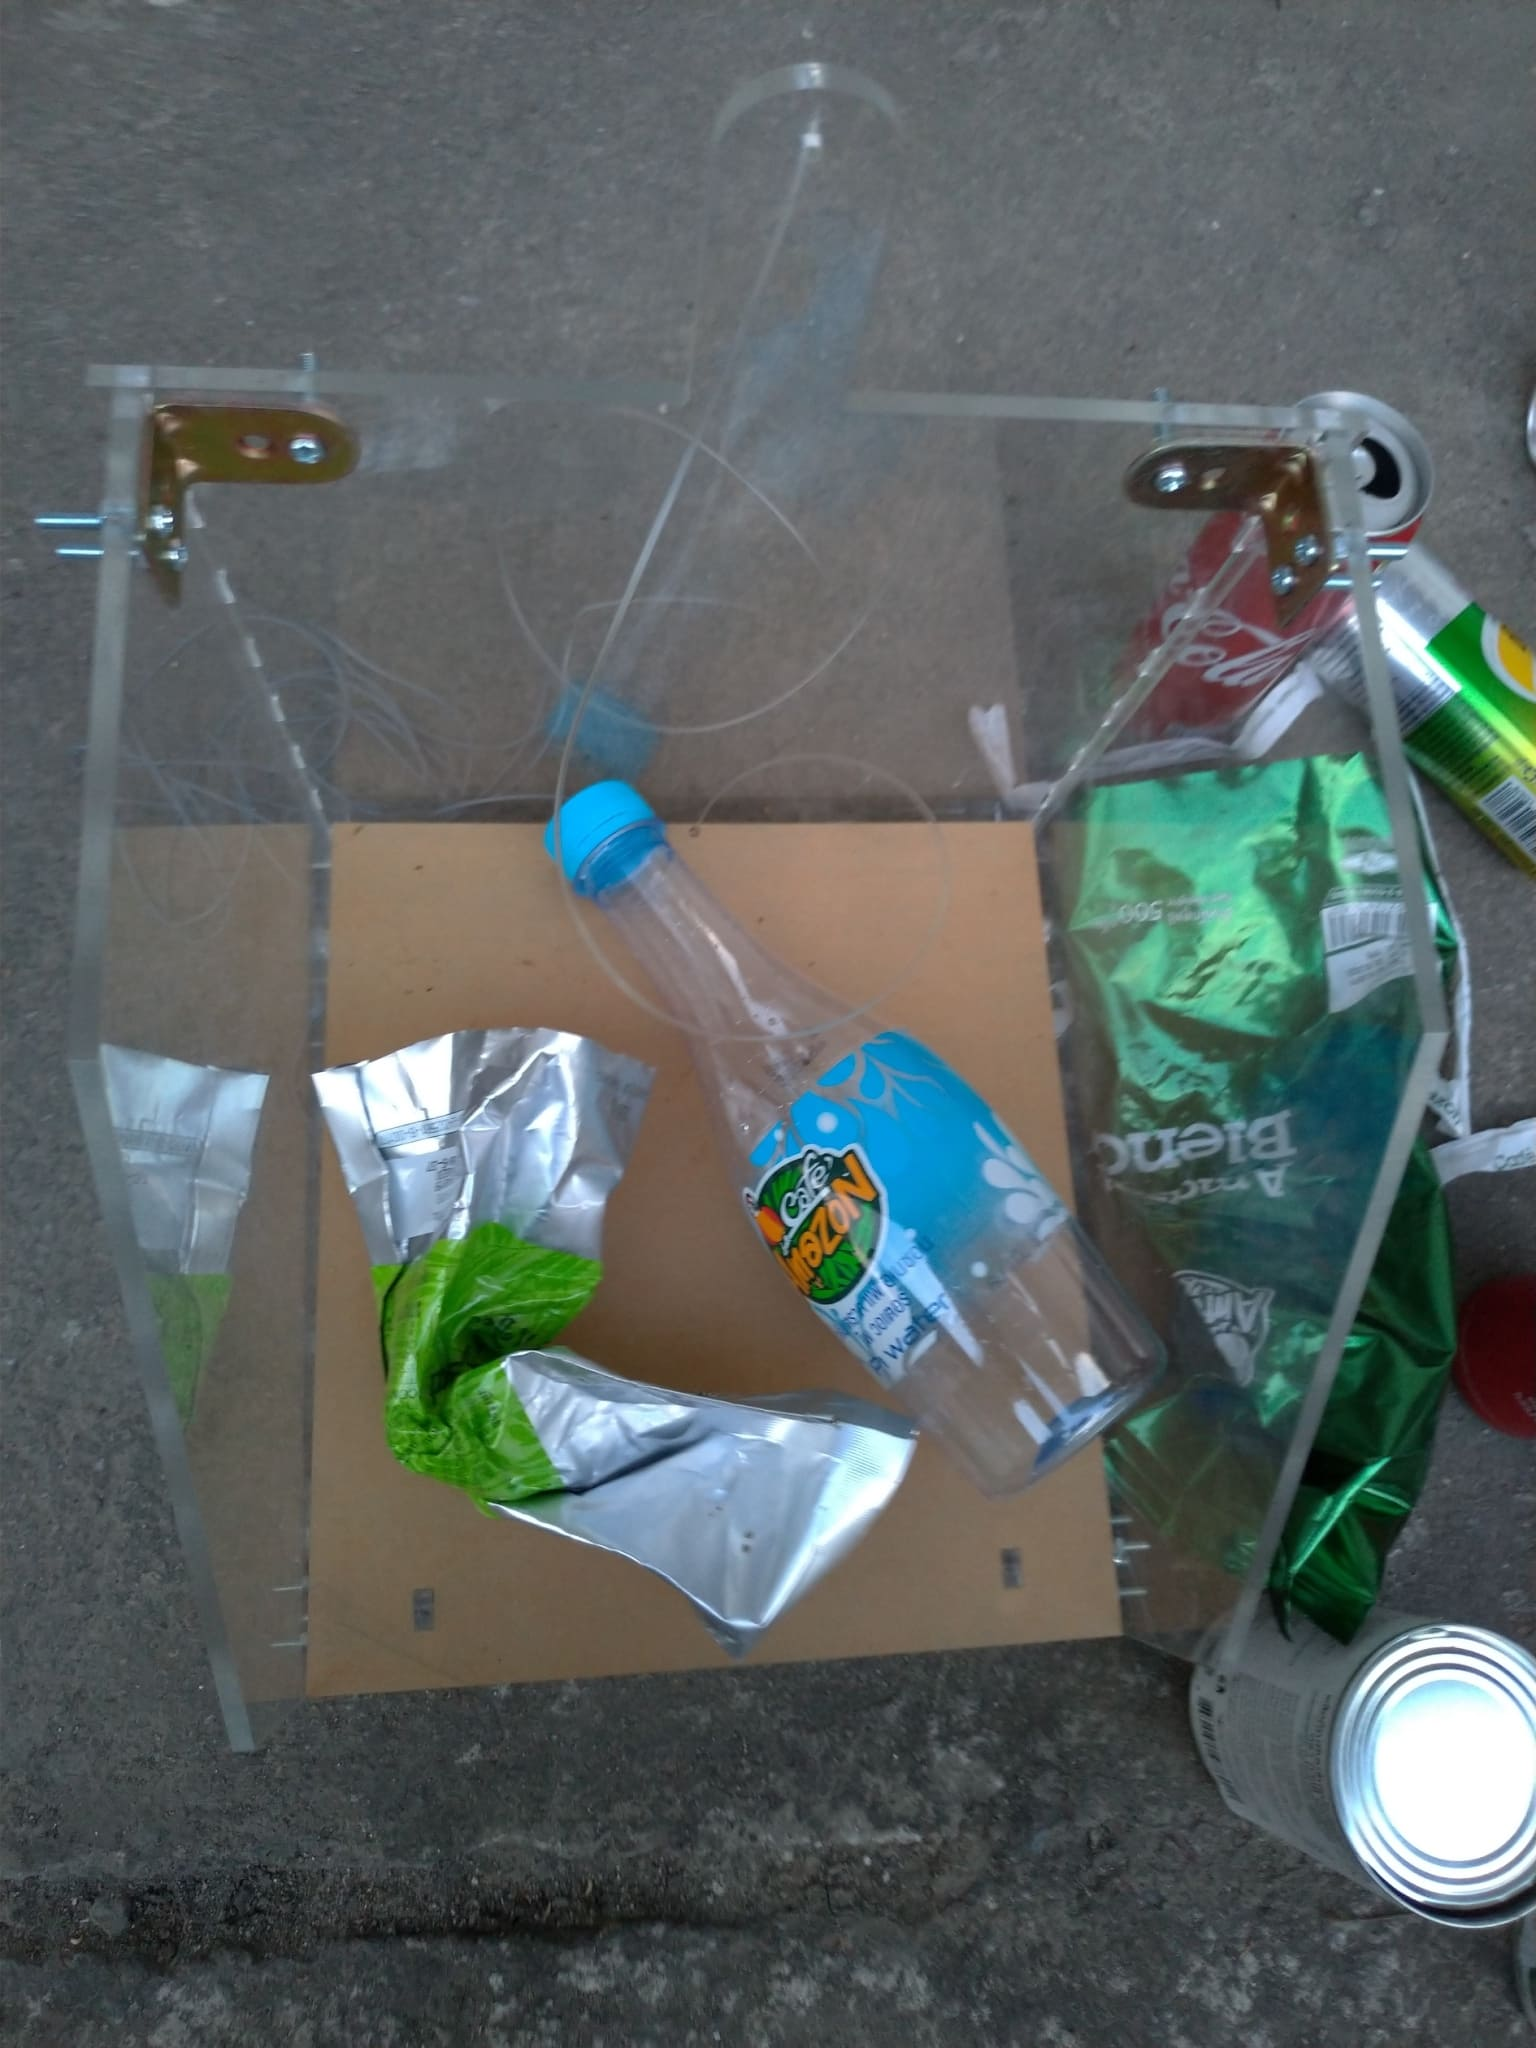AlCan: (1121, 390, 1428, 758), (1318, 558, 1536, 845)
Others: (1044, 745, 1460, 1635), (311, 1032, 921, 1629)
PlasticBottle: (537, 768, 1157, 1474)
